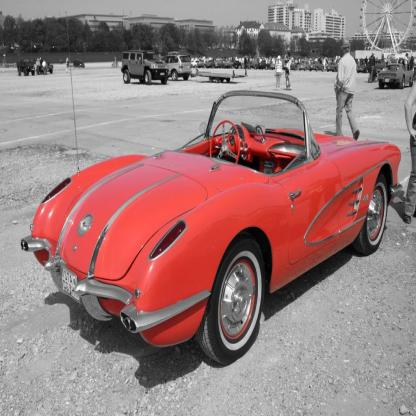Car: (21, 11, 403, 367), (195, 60, 380, 74), (121, 52, 170, 88), (378, 63, 416, 90), (164, 54, 193, 84), (74, 60, 86, 69)
